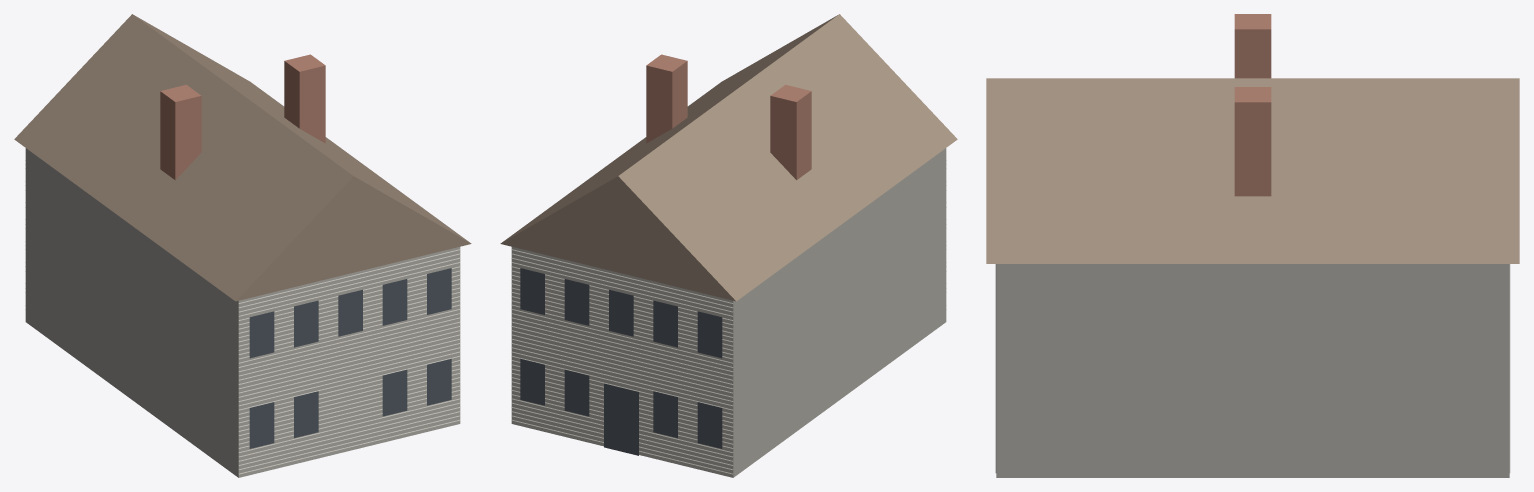
File: recon_1835_north_t1_028__inferred_1835.glb
3 views of the same model, side by side, from view 1: azimuth 30°, elevation 25°; view 2: azimuth 150°, elevation 25°; view 3: azimuth 270°, elevation 25° (orthographic). The views are drawn at different scales.
Parts seen in each view (by area): view 1: recon_1835_north_t1_028__inferred_1835; view 2: recon_1835_north_t1_028__inferred_1835; view 3: recon_1835_north_t1_028__inferred_1835.
Boxes of the visible parts, x1,y1,x2,y2 form: recon_1835_north_t1_028__inferred_1835: [14, 14, 471, 477]; recon_1835_north_t1_028__inferred_1835: [500, 14, 957, 477]; recon_1835_north_t1_028__inferred_1835: [986, 14, 1519, 477].
Size of the model in its own units: 8.12 by 9.68 by 13.18.
